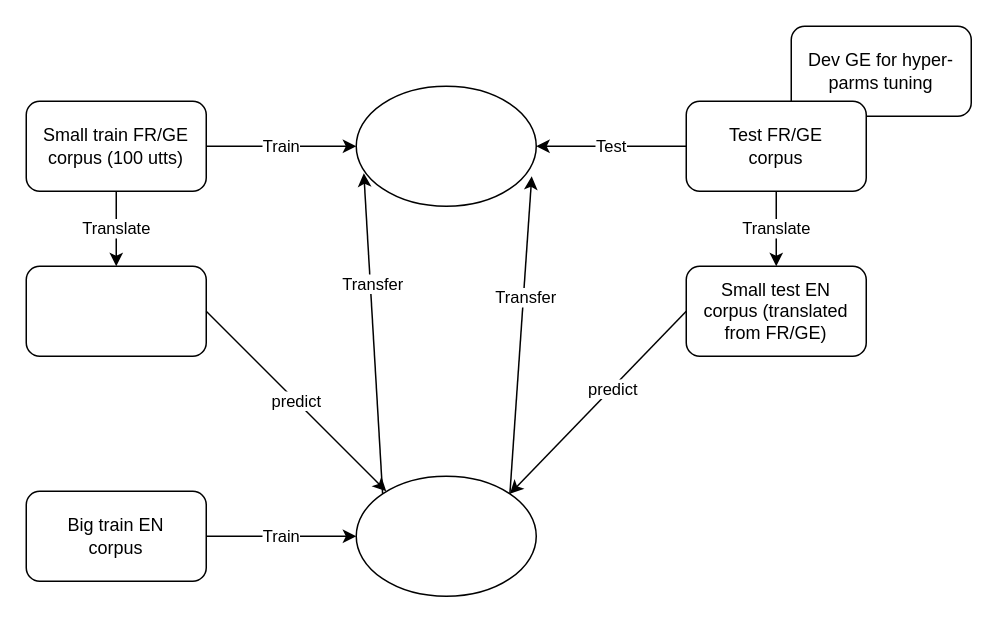
This 998x623 diagram has some shape labels left out. Each missing label, with the centre of its shape:
"Big EN Model" goes at point 445,535.
"Model FR/GE with stacking transfer" goes at point 445,145.
"Small train EN corpus (translated from FR/GE)" goes at point 115,310.
